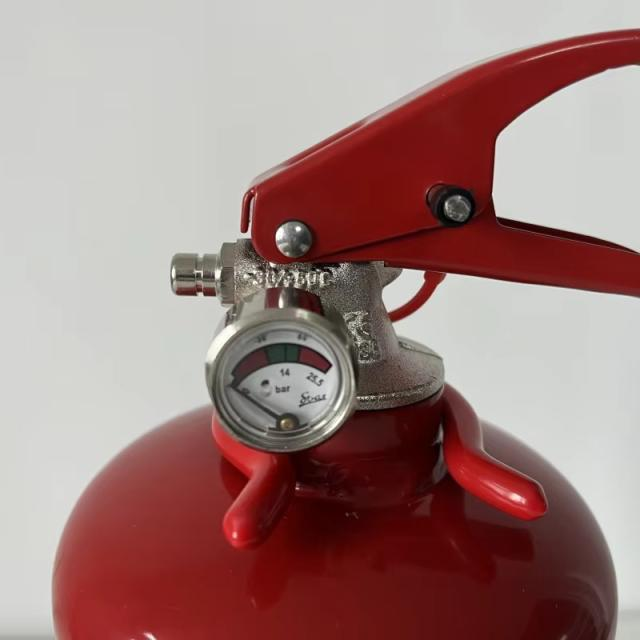pressure gauge: (206, 290, 354, 452)
